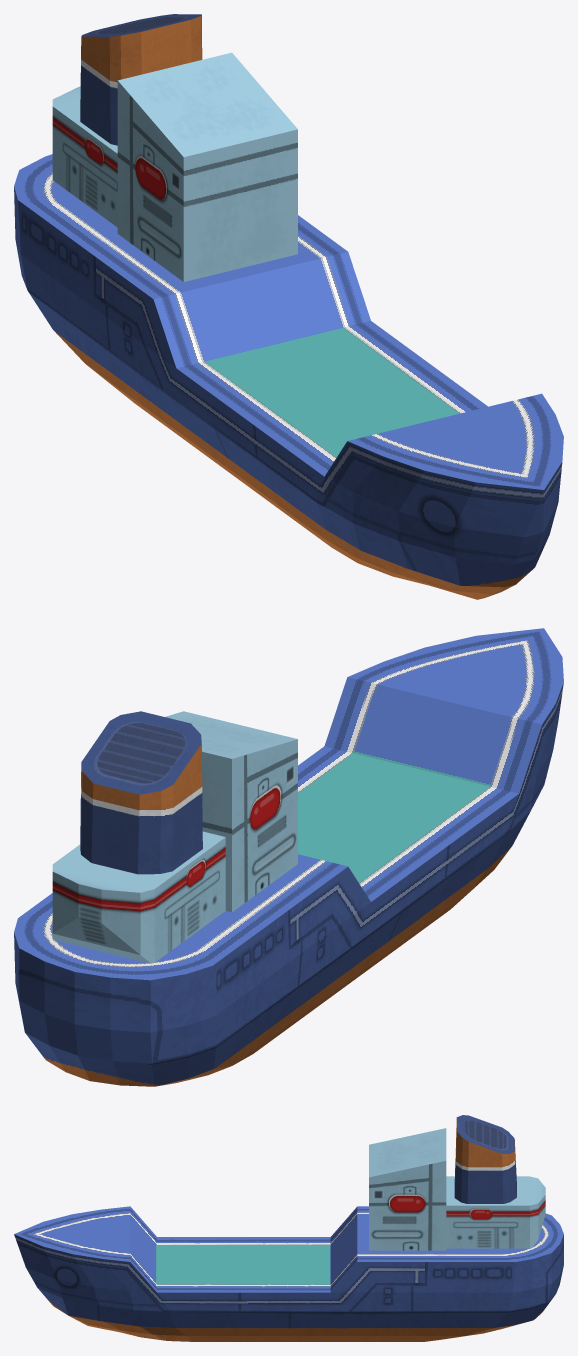
Rendered from boat.glb.
The picture shows the model from 3 angles, top to bottom: view 1: azimuth 30°, elevation 25°; view 2: azimuth 150°, elevation 25°; view 3: azimuth 270°, elevation 25°; orthographic projection. The views are drawn at different scales.
Visible parts, largest first — view 1: Cube; view 2: Cube; view 3: Cube.
Part boxes in pixels (left/top/right/bottom): Cube: left=14, top=14, right=563, bottom=599; Cube: left=14, top=628, right=563, bottom=1086; Cube: left=14, top=1115, right=563, bottom=1341.
Bounding box in the file's own units: 2 × 3.36 × 8.35.
Materials: 4 (4 with a texture image).
